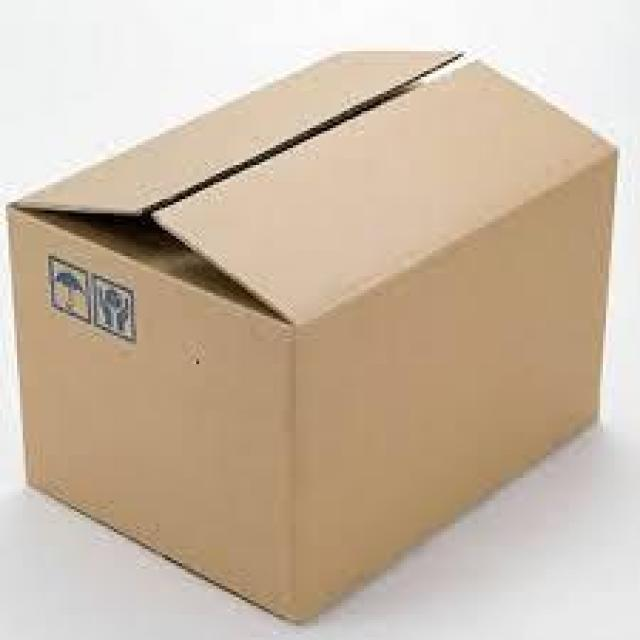box: (6, 35, 622, 630)
